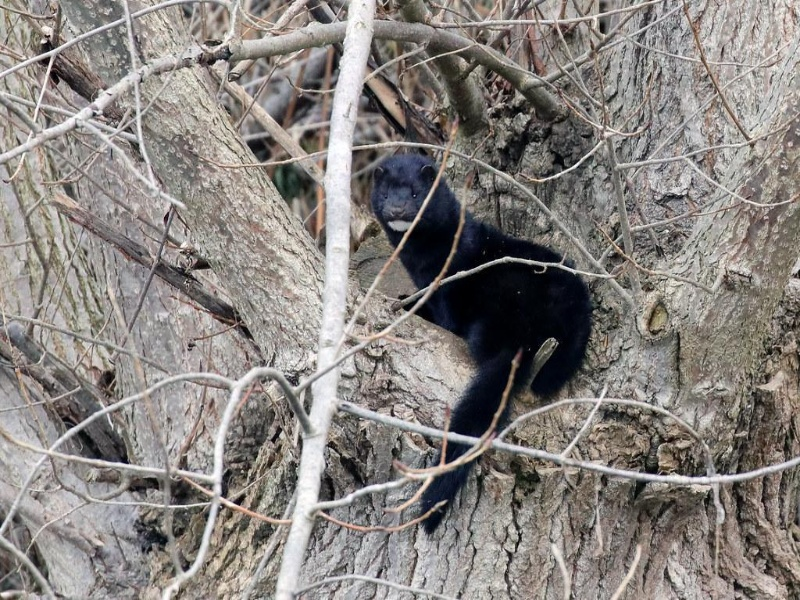minkish: (371, 154, 597, 534)
